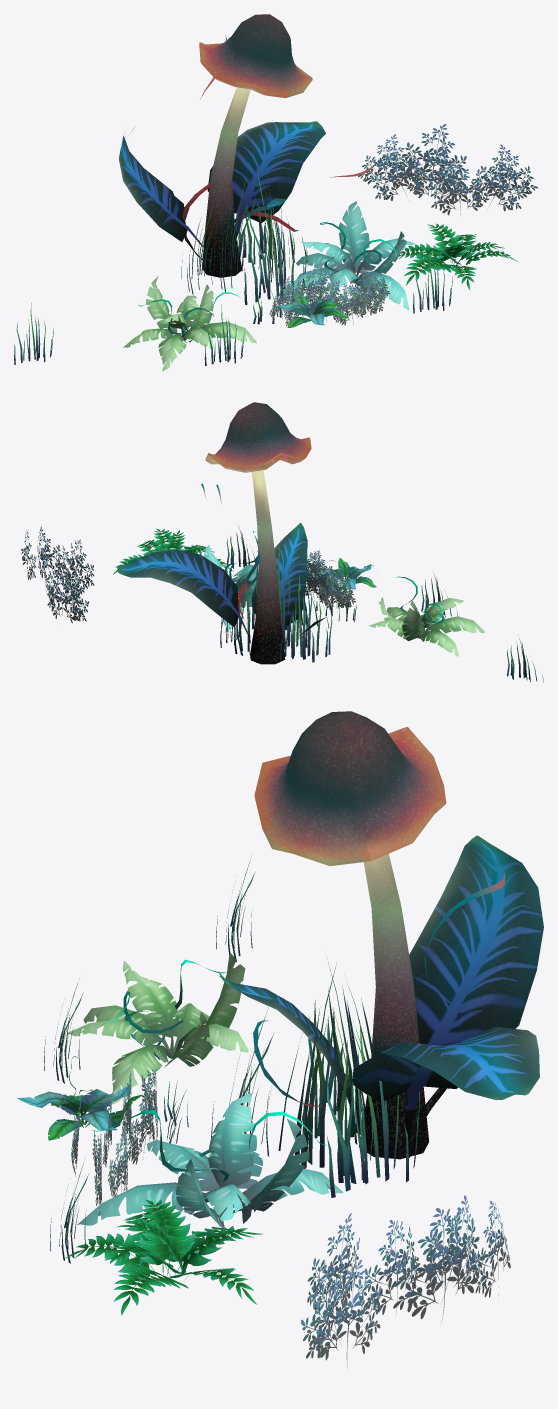
Rendered from hongo.gltf.
3 renders of one model, top to bottom at view 1: azimuth 30°, elevation 25°; view 2: azimuth 150°, elevation 25°; view 3: azimuth 270°, elevation 25°, orthographic. The views are drawn at different scales.
Parts seen in each view (by area): view 1: pCylinder2, Mesh_BushMisc_07, Mesh_FernBlue_01, Herb_S, Mesh_FernBlue_02_lambert4_0, Mesh_Fern_01, Mesh_BushMisc_02_lambert4_0, Mesh_BushMisc_04_lambert4_0, Mesh_Fern_02_lambert3_0, Herb_M, Herb_M2, Herb_M1; view 2: pCylinder2, Mesh_FernBlue_02_lambert4_0, Mesh_BushMisc_07, Herb_S, Mesh_BushMisc_02_lambert4_0, Mesh_Fern_01, Mesh_BushMisc_04_lambert4_0, Mesh_FernBlue_01, Mesh_Fern_02_lambert3_0, Herb_M2, Herb_M; view 3: pCylinder2, Mesh_FernBlue_01, Mesh_BushMisc_07, Mesh_FernBlue_02_lambert4_0, Herb_S, Mesh_Fern_01, Mesh_BushMisc_02_lambert4_0, Mesh_Fern_02_lambert3_0, Mesh_BushMisc_04_lambert4_0.
Boxes of the visible parts, x1,y1,x2,y2 form: pCylinder2: (119, 14, 378, 277); Mesh_BushMisc_07: (358, 124, 537, 215); Mesh_FernBlue_01: (279, 201, 414, 310); Herb_S: (181, 165, 307, 304); Mesh_FernBlue_02_lambert4_0: (123, 276, 256, 371); Mesh_Fern_01: (398, 223, 518, 289); Mesh_BushMisc_02_lambert4_0: (270, 261, 389, 324); Mesh_BushMisc_04_lambert4_0: (269, 265, 389, 326); Mesh_Fern_02_lambert3_0: (276, 289, 348, 327); Herb_M: (413, 252, 452, 313); Herb_M2: (14, 302, 53, 364); Herb_M1: (204, 304, 244, 365); pCylinder2: (117, 402, 326, 664); Mesh_FernBlue_02_lambert4_0: (369, 576, 484, 656); Mesh_BushMisc_07: (21, 526, 94, 623); Herb_S: (220, 539, 332, 662); Mesh_BushMisc_02_lambert4_0: (305, 550, 355, 607); Mesh_Fern_01: (113, 528, 233, 574); Mesh_BushMisc_04_lambert4_0: (305, 553, 355, 609); Mesh_FernBlue_01: (199, 531, 296, 632); Mesh_Fern_02_lambert3_0: (312, 558, 377, 589); Herb_M2: (507, 639, 543, 682); Herb_M: (226, 525, 256, 568); pCylinder2: (218, 711, 543, 1159); Mesh_FernBlue_01: (77, 1093, 343, 1227); Mesh_BushMisc_07: (301, 1195, 510, 1369); Mesh_FernBlue_02_lambert4_0: (66, 954, 248, 1104); Herb_S: (211, 959, 420, 1197); Mesh_Fern_01: (65, 1199, 262, 1315); Mesh_BushMisc_02_lambert4_0: (71, 1069, 157, 1201); Mesh_Fern_02_lambert3_0: (17, 1056, 142, 1140); Mesh_BushMisc_04_lambert4_0: (71, 1073, 157, 1205).
Bounding box in the file's own units: 9.38 × 4.38 × 4.46.
3 materials, 3 textured.
